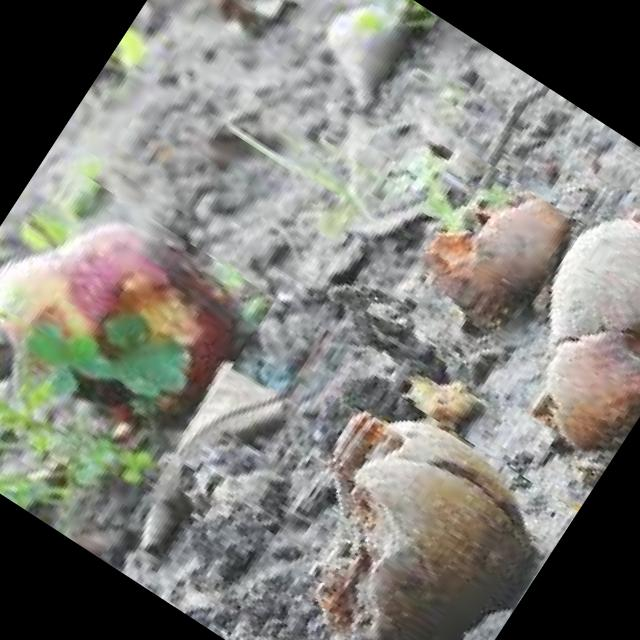Organic: (245, 381, 577, 640), (0, 164, 275, 464), (479, 139, 640, 456), (394, 147, 586, 336), (284, 0, 438, 107)
